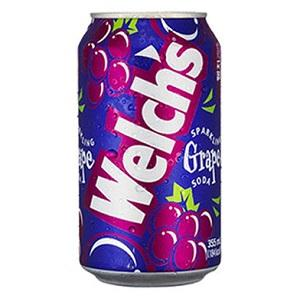welchs_grape: (66, 0, 227, 293)
